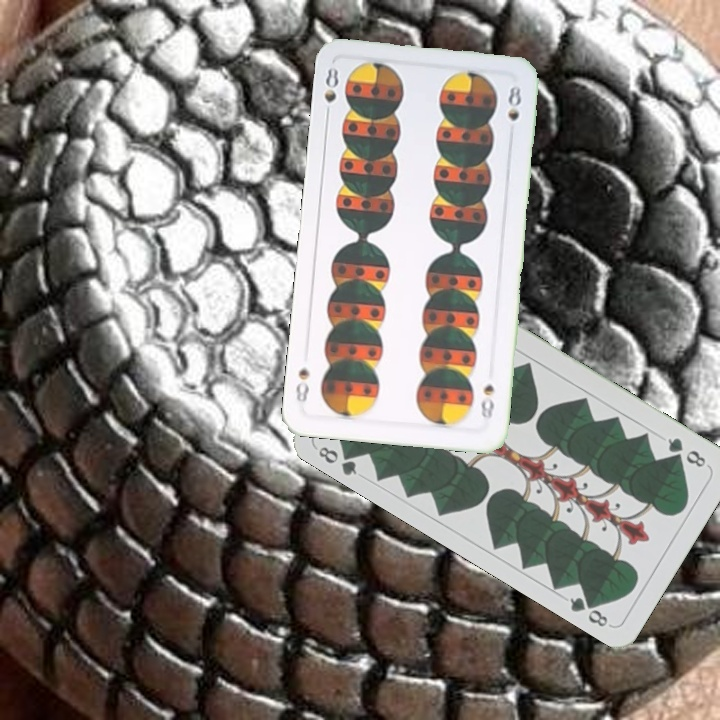G8: (314, 442, 361, 479), (663, 433, 709, 470)
S8: (320, 63, 341, 121), (476, 380, 497, 424)
